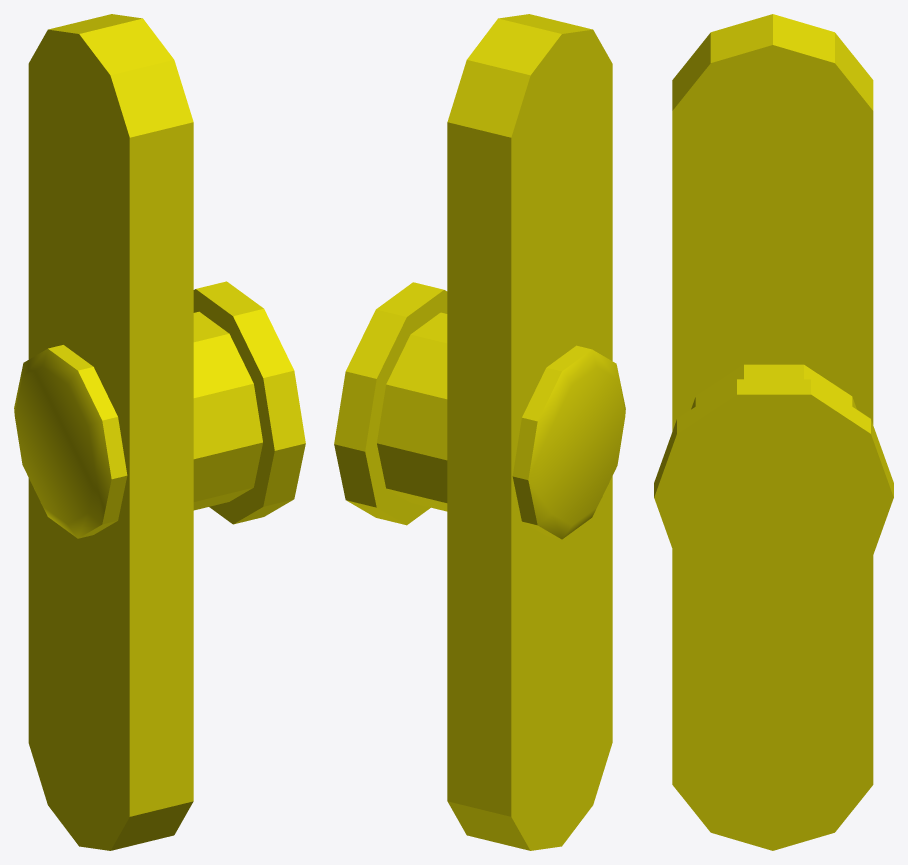
File: Large_Window_Handle_B.fbx
3 renders of one model, left to right at view 1: azimuth 30°, elevation 25°; view 2: azimuth 150°, elevation 25°; view 3: azimuth 270°, elevation 25°, orthographic.
Visible parts, largest first — view 1: Large_Window_Handle_B; view 2: Large_Window_Handle_B; view 3: Large_Window_Handle_B.
Part boxes in pixels (<box>): Large_Window_Handle_B: <box>14,14,305,850</box>; Large_Window_Handle_B: <box>334,14,625,850</box>; Large_Window_Handle_B: <box>654,14,893,850</box>.
Bounding box in the file's own units: 6.1 × 24.87 × 6.7.
